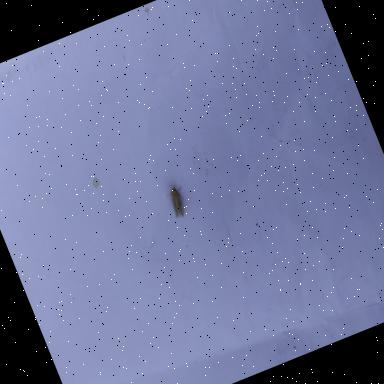pbw: (163, 182, 192, 219)
